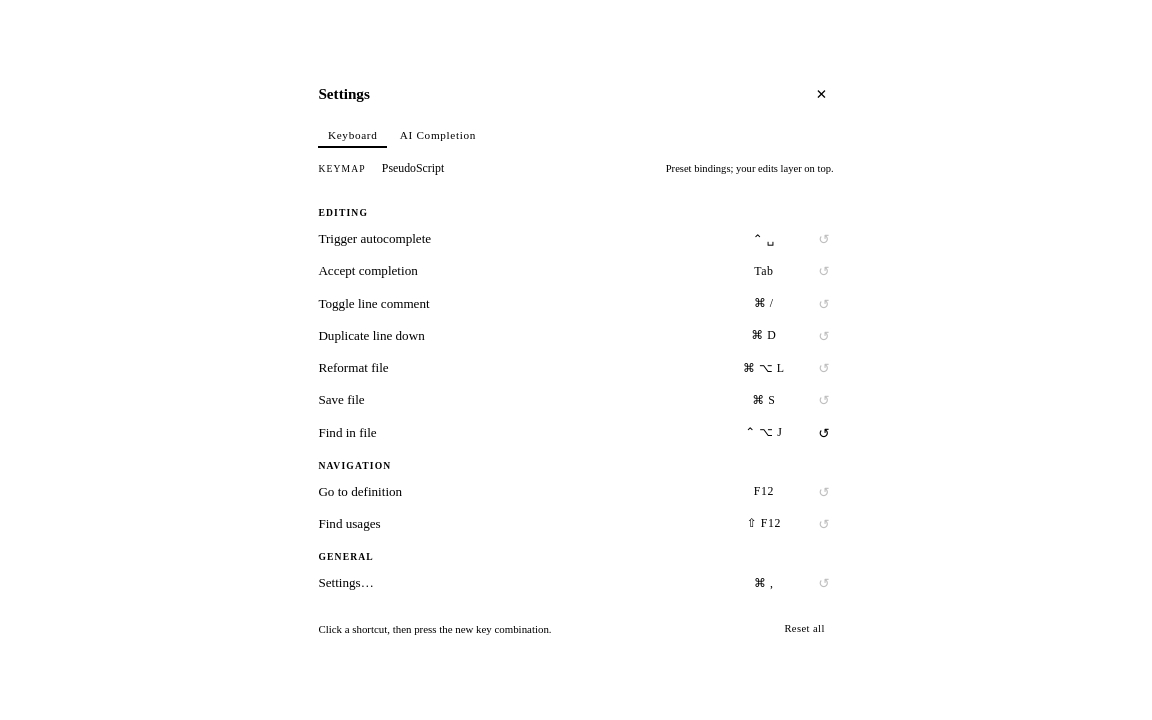
Test case: Settings › warns on a conflicting chord instead of rebinding
Click the button with test id "keybind-duplicateLine": click(764, 336) [720,325,808,347]
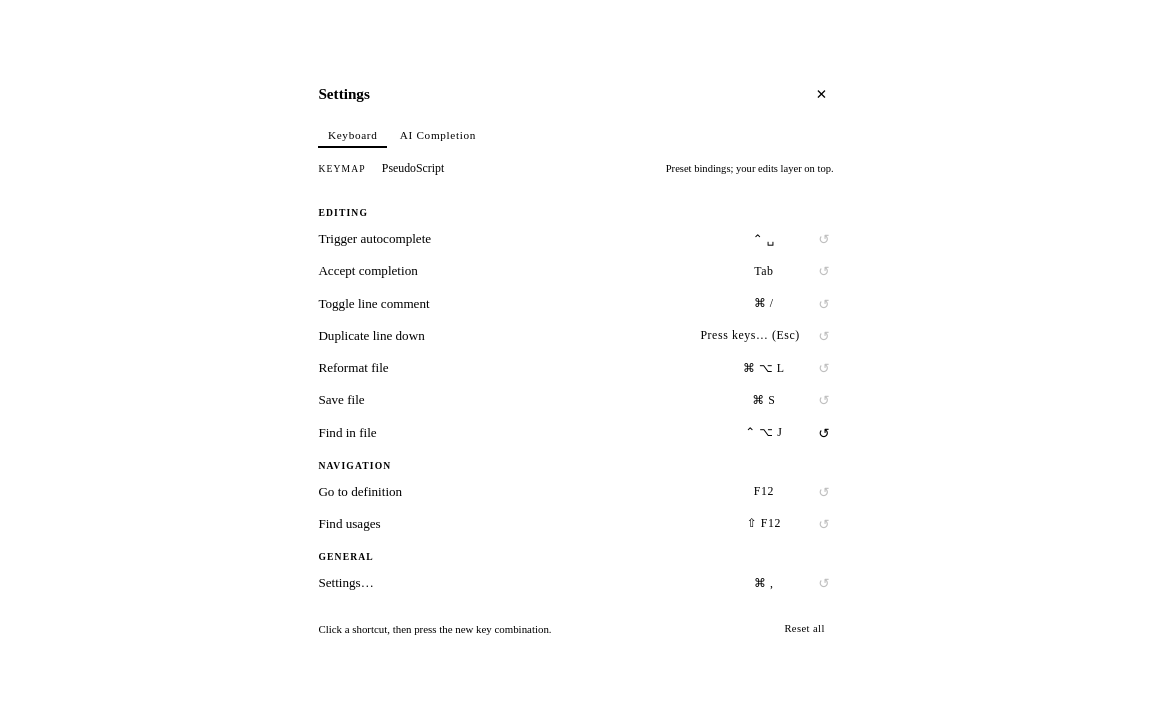
Press j
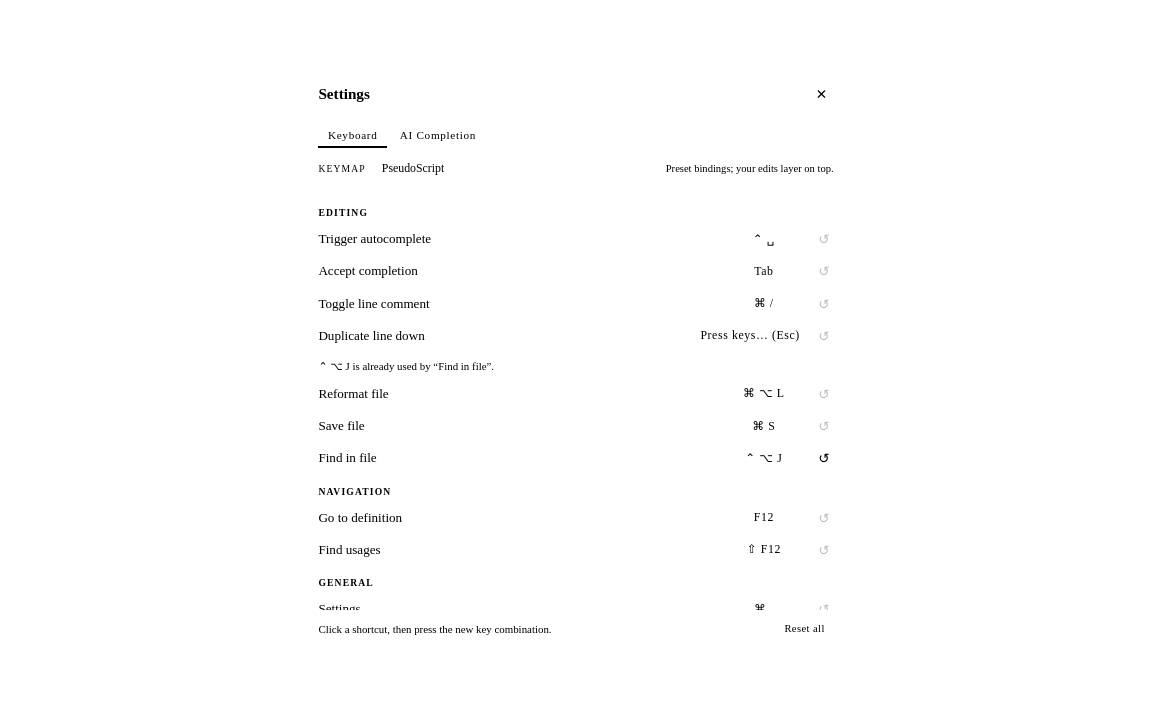
Expected: the text with test id "keybind-conflict" shows "already used", [318,360,494,372]
